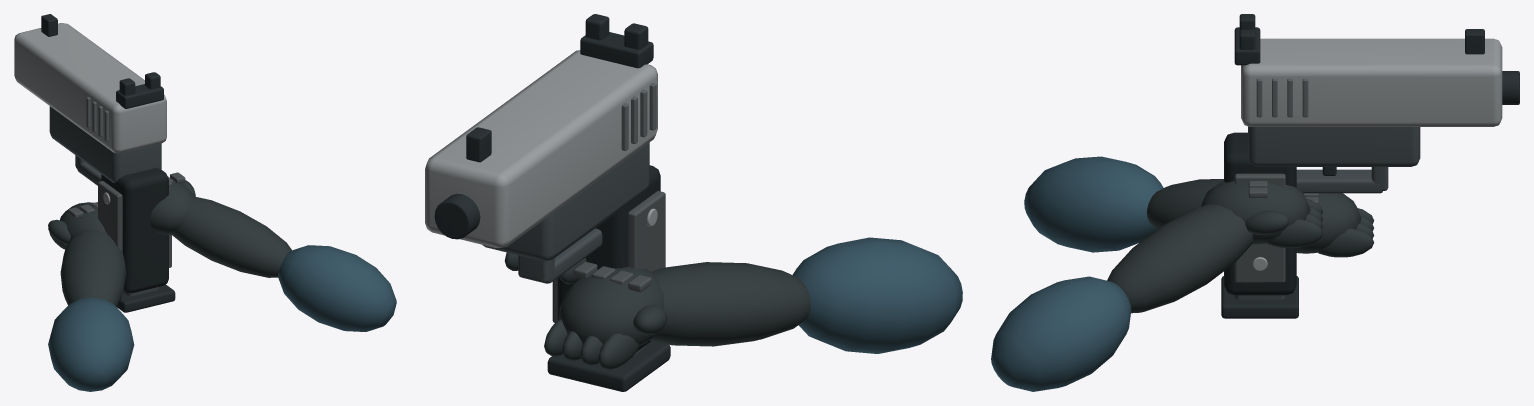
The model's file is view_deagle.glb.
The picture shows the model from 3 angles, left to right: view 1: azimuth 30°, elevation 25°; view 2: azimuth 150°, elevation 25°; view 3: azimuth 270°, elevation 25°; orthographic projection. The views are drawn at different scales.
Visible parts, largest first — view 1: trigger_hand_mesh.003, bolt_mesh.003, support_hand_mesh.003, weapon_body_mesh.003, magazine_mesh.003; view 2: support_hand_mesh.003, bolt_mesh.003, weapon_body_mesh.003, magazine_mesh.003, trigger_hand_mesh.003; view 3: trigger_hand_mesh.003, bolt_mesh.003, support_hand_mesh.003, weapon_body_mesh.003, magazine_mesh.003.
Part boxes in pixels (x1,y1,x2,y2): trigger_hand_mesh.003: (149, 172, 396, 331); bolt_mesh.003: (14, 14, 166, 153); support_hand_mesh.003: (48, 202, 134, 391); weapon_body_mesh.003: (49, 106, 171, 293); magazine_mesh.003: (117, 284, 175, 312); support_hand_mesh.003: (544, 237, 962, 369); bolt_mesh.003: (425, 14, 657, 247); weapon_body_mesh.003: (482, 142, 665, 351); magazine_mesh.003: (547, 341, 670, 391); trigger_hand_mesh.003: (504, 252, 586, 284); trigger_hand_mesh.003: (991, 181, 1323, 391); bolt_mesh.003: (1234, 14, 1519, 126); support_hand_mesh.003: (1024, 156, 1374, 257); weapon_body_mesh.003: (1224, 126, 1420, 295); magazine_mesh.003: (1221, 276, 1298, 318).
Size of the model in its own units: 0.7231 by 0.5032 by 0.8298.
